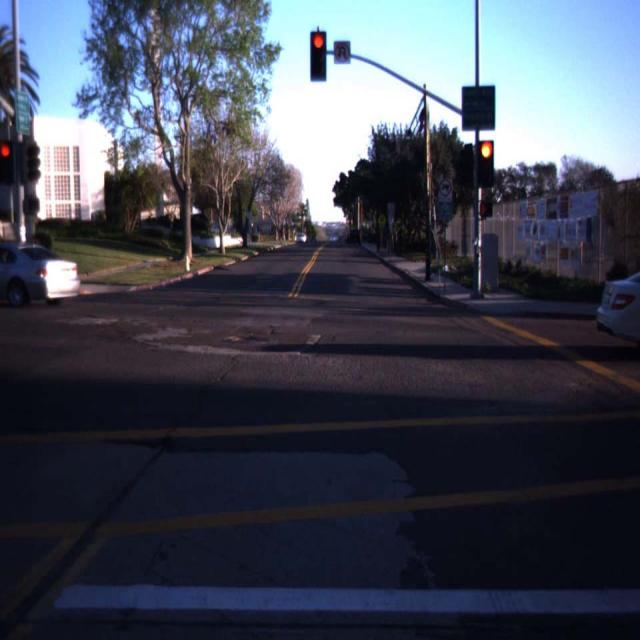kirmizi: (309, 31, 327, 83), (476, 140, 495, 188), (1, 143, 16, 185)
